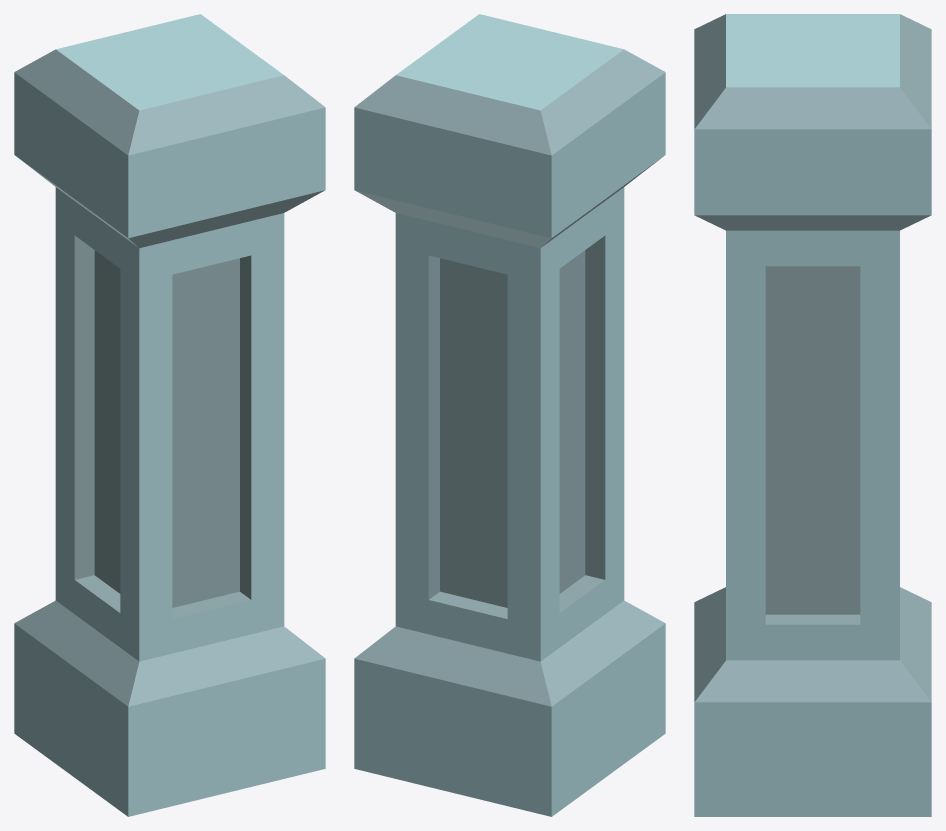
The model's file is d_kenney_colonne_antique.glb.
3 renders of one model, left to right at view 1: azimuth 30°, elevation 25°; view 2: azimuth 150°, elevation 25°; view 3: azimuth 270°, elevation 25°, orthographic. The views are drawn at different scales.
Visible parts, largest first — view 1: d_kenney_colonne_antique; view 2: d_kenney_colonne_antique; view 3: d_kenney_colonne_antique.
Part boxes in pixels (<box>): d_kenney_colonne_antique: <box>14,14,325,816</box>; d_kenney_colonne_antique: <box>354,14,665,816</box>; d_kenney_colonne_antique: <box>694,14,931,816</box>.
Size of the model in its own units: 0.3 by 1 by 0.3.
Materials: 1 (1 with a texture image).
